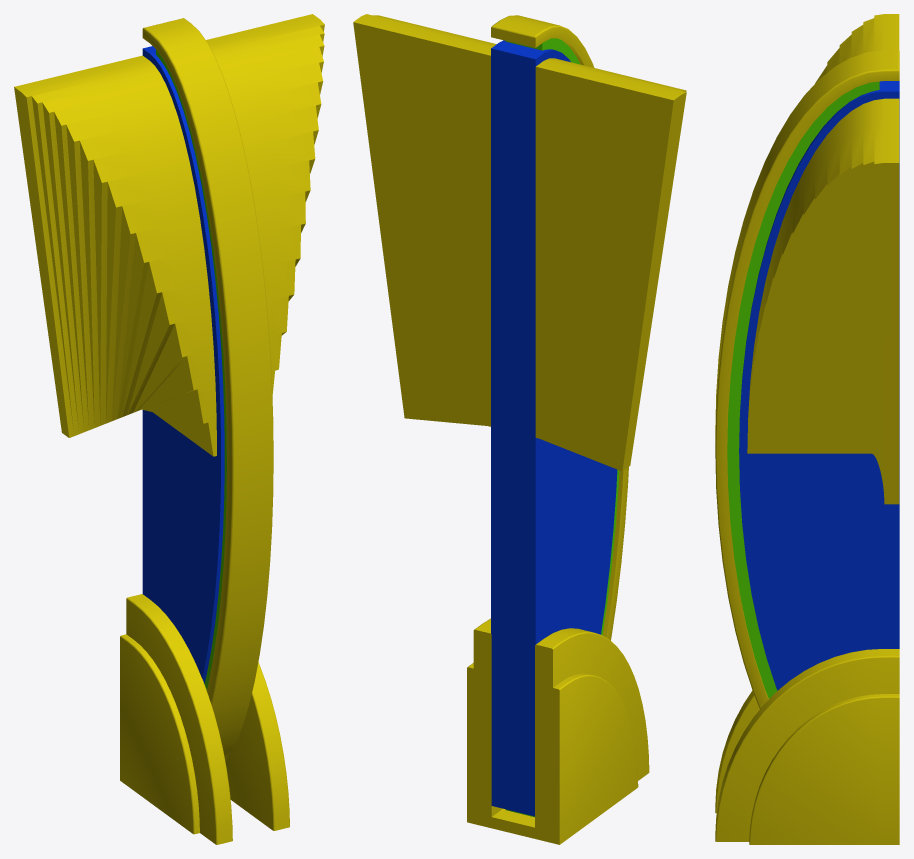
File: Pole_D_01.fbx
3 views of the same model, side by side, from view 1: azimuth 30°, elevation 25°; view 2: azimuth 150°, elevation 25°; view 3: azimuth 270°, elevation 25° (orthographic). The views are drawn at different scales.
Parts seen in each view (by area): view 1: Pole_D_01; view 2: Pole_D_01; view 3: Pole_D_01.
Boxes of the visible parts, <box> form: Pole_D_01: <box>14,14,324,844</box>; Pole_D_01: <box>353,14,686,844</box>; Pole_D_01: <box>715,14,899,844</box>.
Size of the model in its own units: 209 by 500 by 109.
